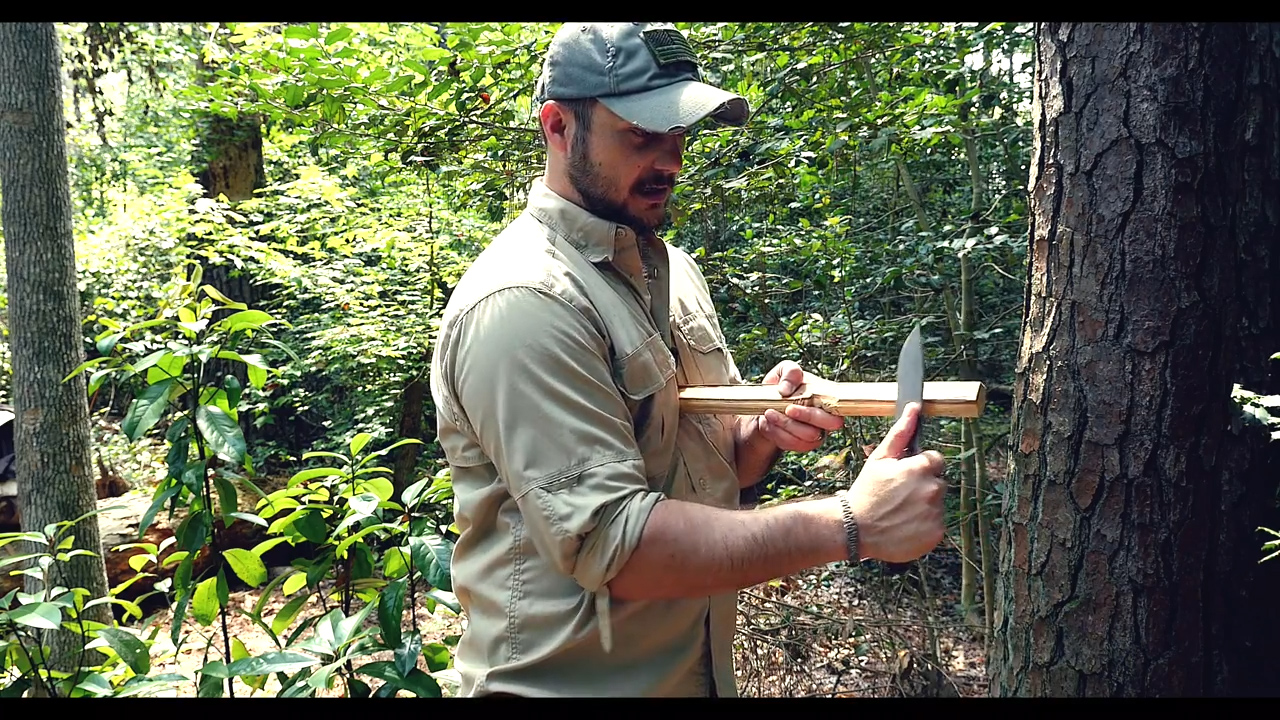knife: (865, 315, 957, 543)
